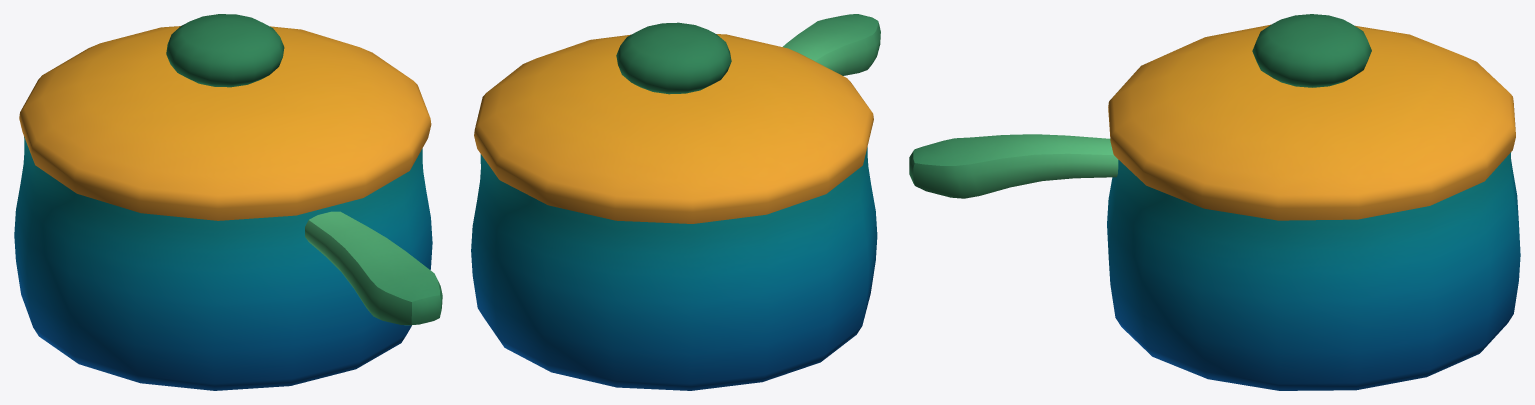
File: PanBig.fbx
3 views of the same model, side by side, from view 1: azimuth 30°, elevation 25°; view 2: azimuth 150°, elevation 25°; view 3: azimuth 270°, elevation 25° (orthographic). The views are drawn at different scales.
Visible parts, largest first — view 1: BigPanBase, BigPanLid; view 2: BigPanBase, BigPanLid; view 3: BigPanBase, BigPanLid.
Boxes of the visible parts, box(x1,y1,x2,y2) form: BigPanBase: box(14, 136, 442, 390); BigPanLid: box(19, 14, 431, 220); BigPanBase: box(471, 14, 880, 390); BigPanLid: box(474, 22, 873, 223); BigPanBase: box(909, 134, 1520, 390); BigPanLid: box(1108, 14, 1515, 220).
Size of the model in its own units: 48.53 by 37.04 by 71.71.
